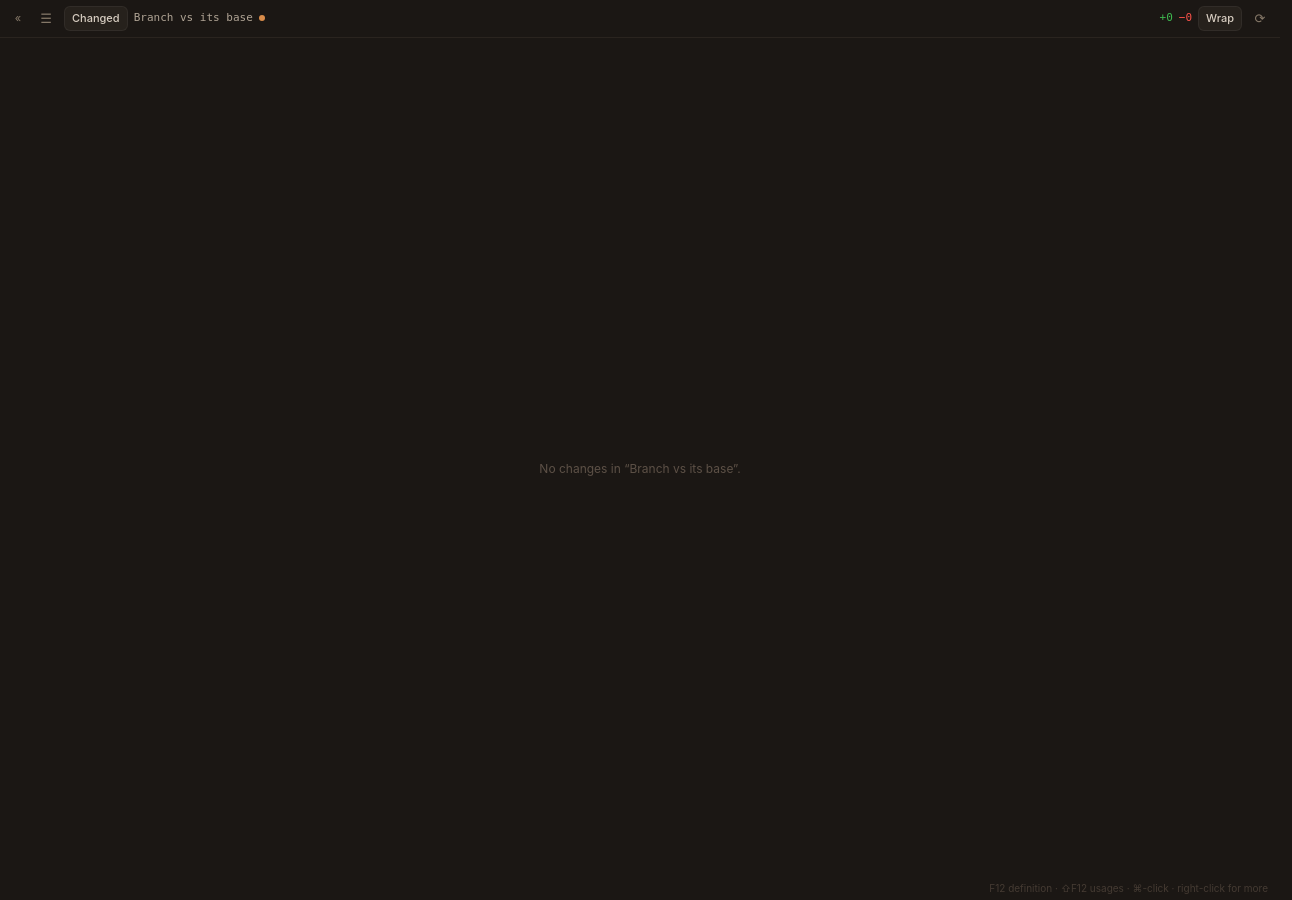
Test: the last turn › is a scope of its own, and says when no turn has finished yet
The width and height of the screenshot is (1292, 900).
Click the button named "Files and settings": [46, 18] box top-left (34, 6), bottom-right (58, 30)
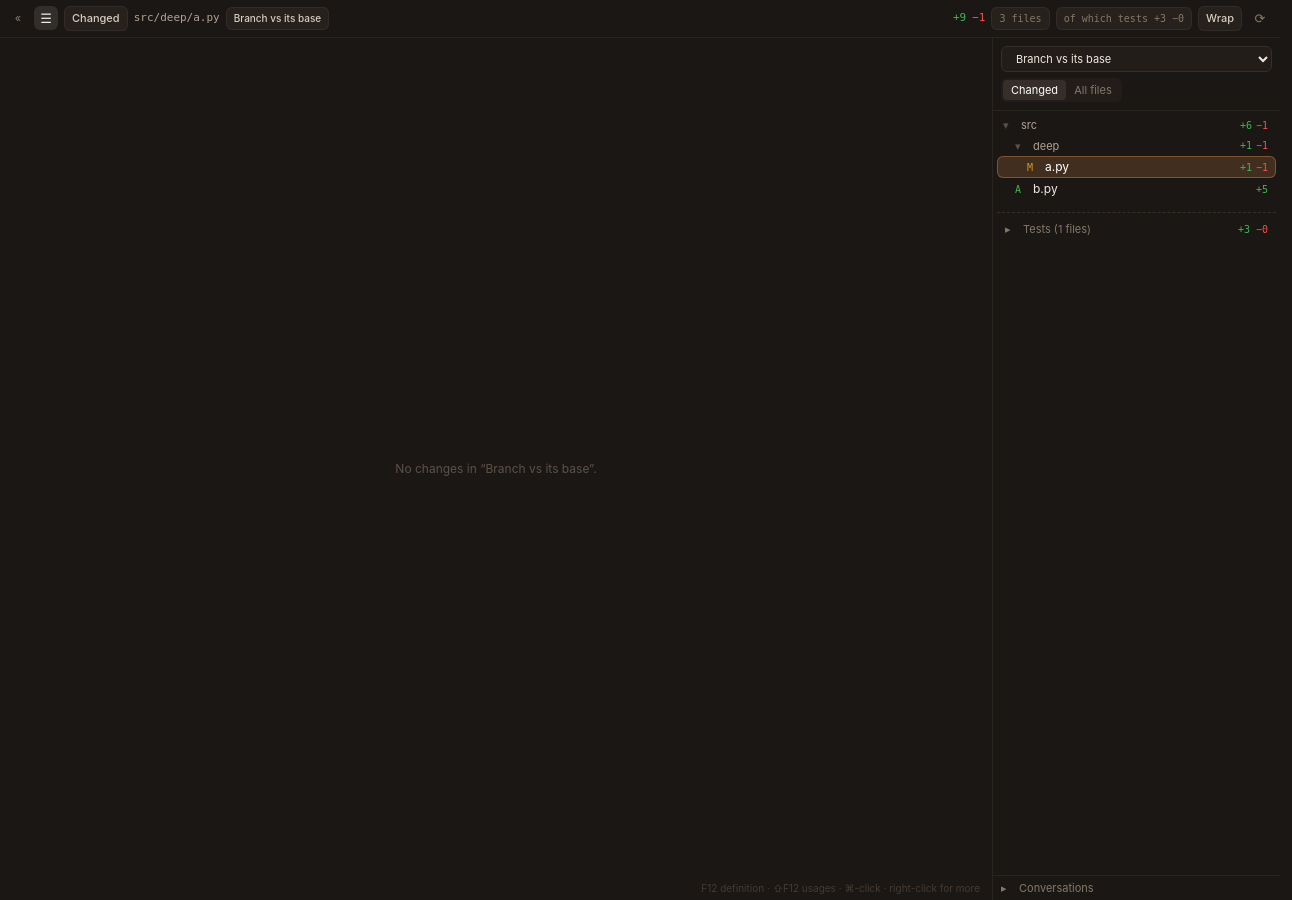
Select "Last turn" in the dropdown named "What to compare": [1136, 58] box top-left (1001, 46), bottom-right (1272, 72)
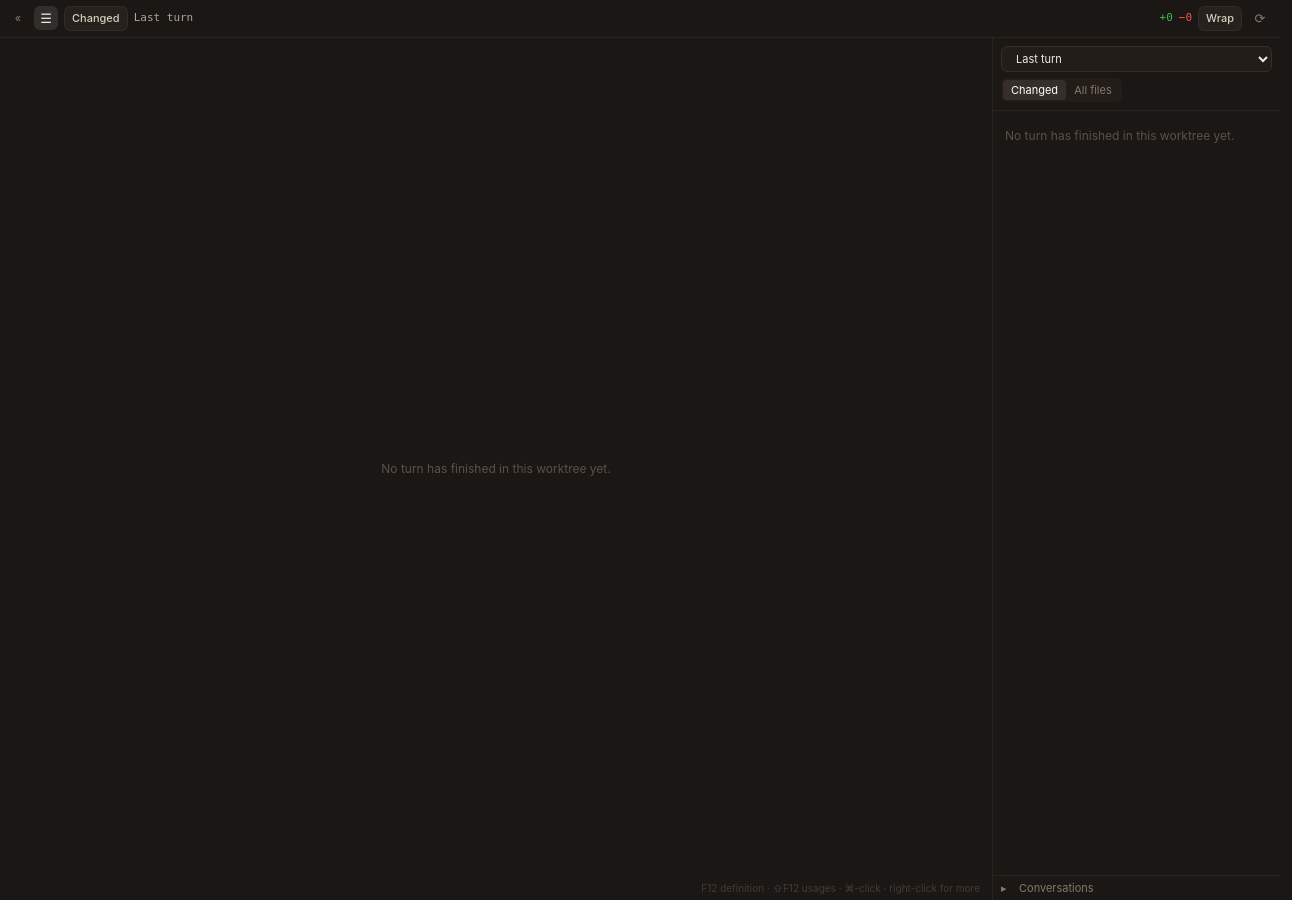
expect the 1st text "No turn has finished in this worktree yet." is shown: met, box top-left (381, 461), bottom-right (611, 476)
Click the button named "Refresh diff": [1260, 18] box top-left (1248, 6), bottom-right (1272, 30)
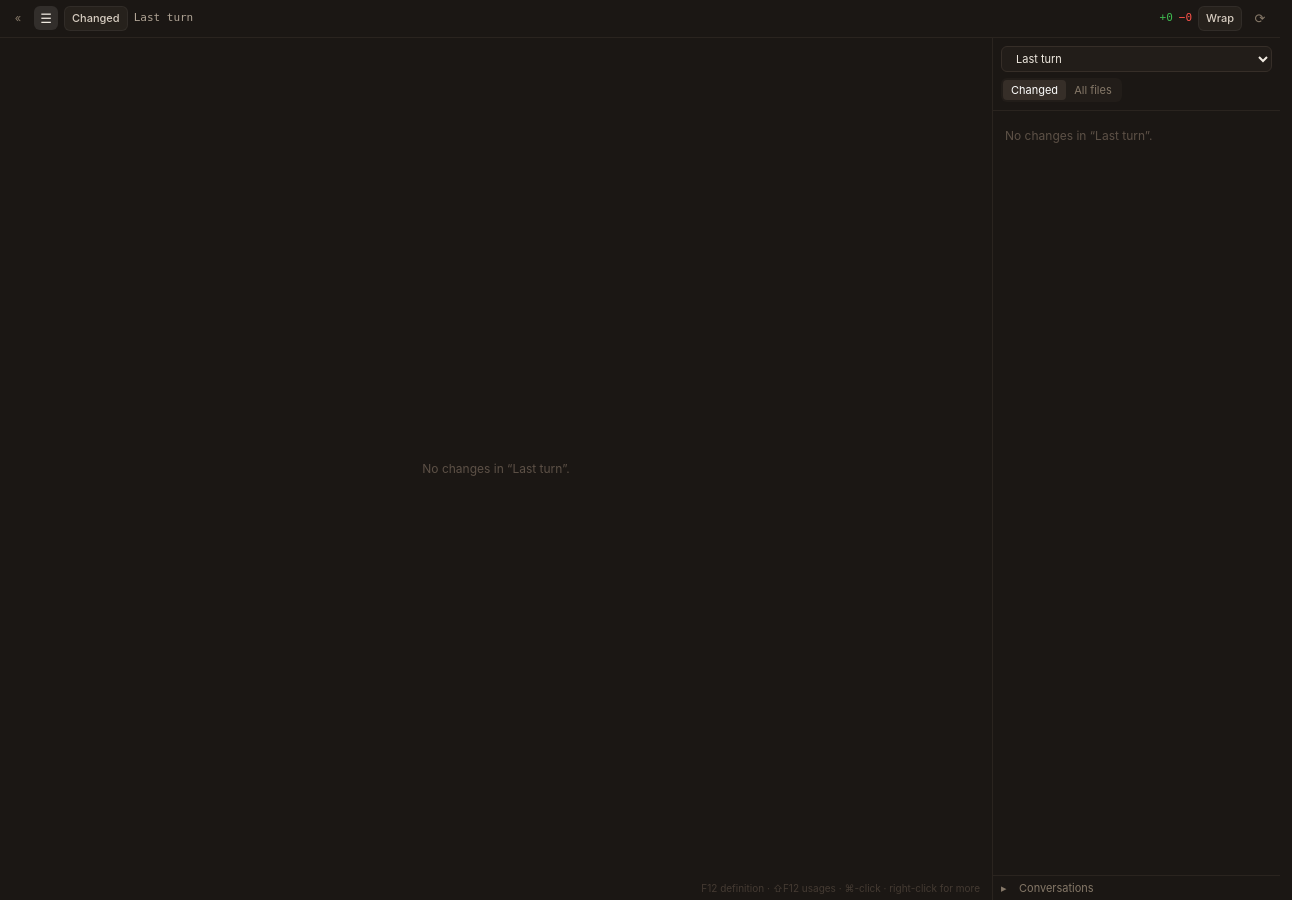
expect the 1st text "No changes in “Last turn”." is shown: met, box top-left (422, 461), bottom-right (570, 476)
